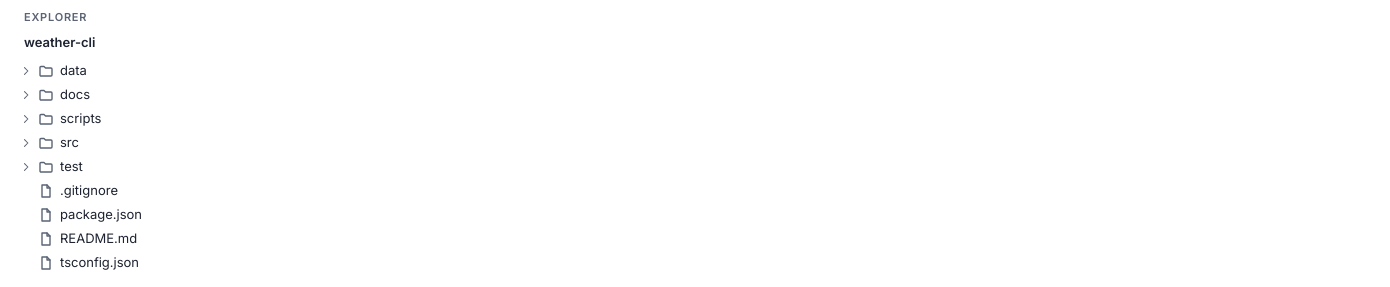
Test: ExplorerContextMenu › reports an existing sibling name
This screenshot has width=1390, height=287.
Right-click the button with test id "tree-row-package.json": (101, 214) left=12, top=203, right=1378, bottom=227
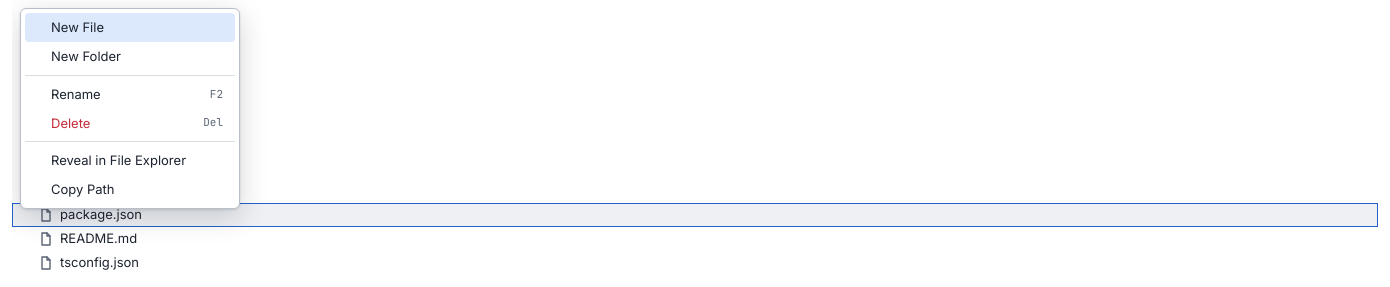
Click the menu item with test id "ctx-new-file": (130, 27) left=25, top=13, right=235, bottom=42
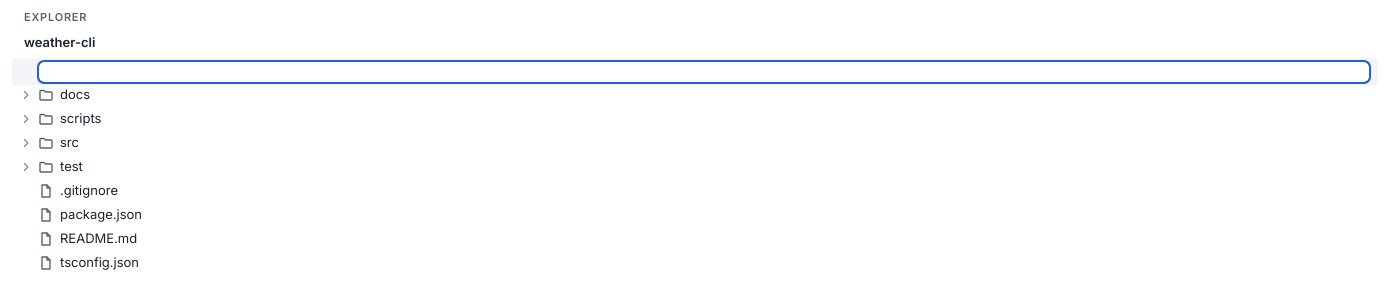
In the field with test id "explorer-name-input": (704, 72) left=38, top=61, right=1370, bottom=83, type "PACKAGE.json"
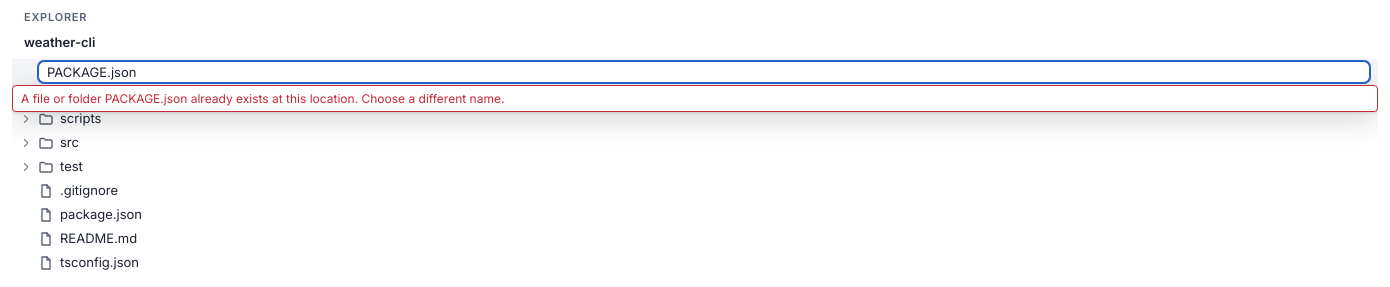
Result: the message shows "already exists" at left=21, top=91, right=504, bottom=106
